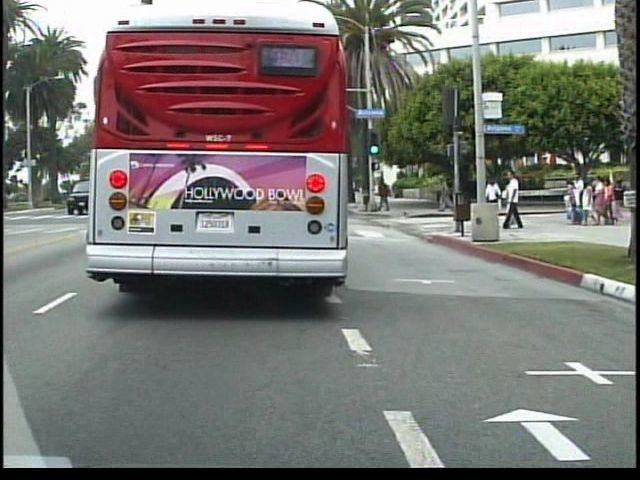person: (503, 166, 527, 233), (484, 174, 506, 223), (375, 176, 396, 216), (438, 174, 456, 215)
